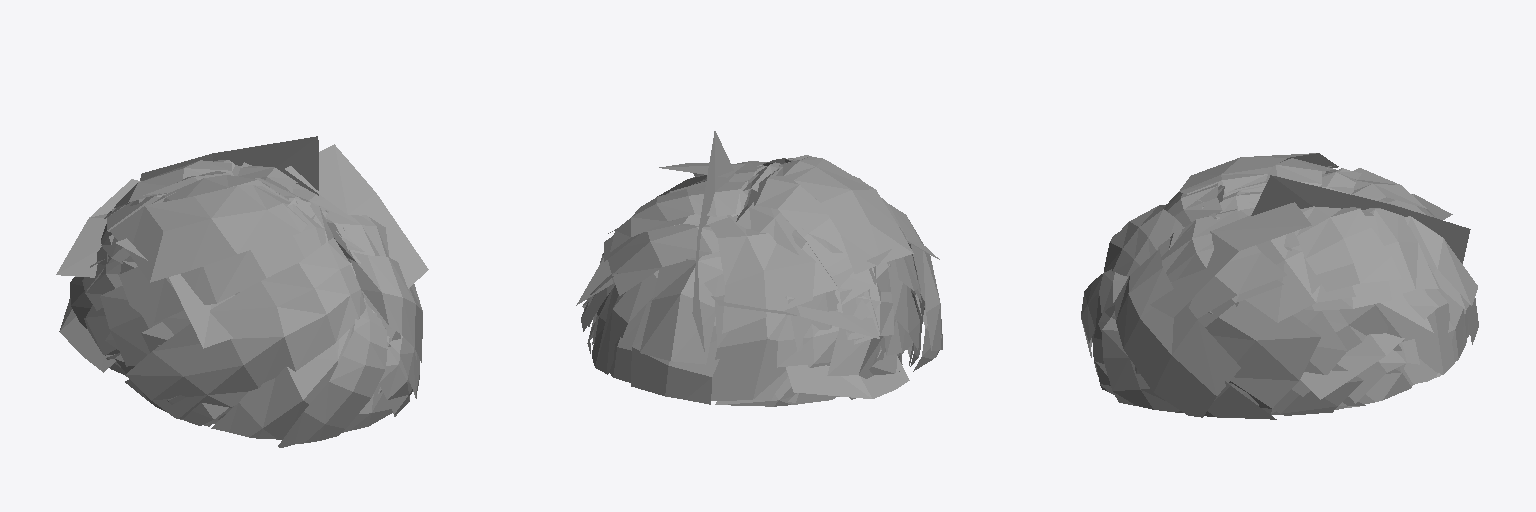
File: hair1.obj
3 views of the same model, side by side, from view 1: azimuth 30°, elevation 25°; view 2: azimuth 150°, elevation 25°; view 3: azimuth 270°, elevation 25° (orthographic).
Visible parts, largest first — view 1: Harry_Potter; view 2: Harry_Potter; view 3: Harry_Potter.
Part boxes in pixels (x1,y1,x2,y2): Harry_Potter: (56, 136, 428, 447); Harry_Potter: (576, 131, 942, 406); Harry_Potter: (1081, 153, 1478, 419).
Size of the model in its own units: 0.4554 by 0.3042 by 0.5032.